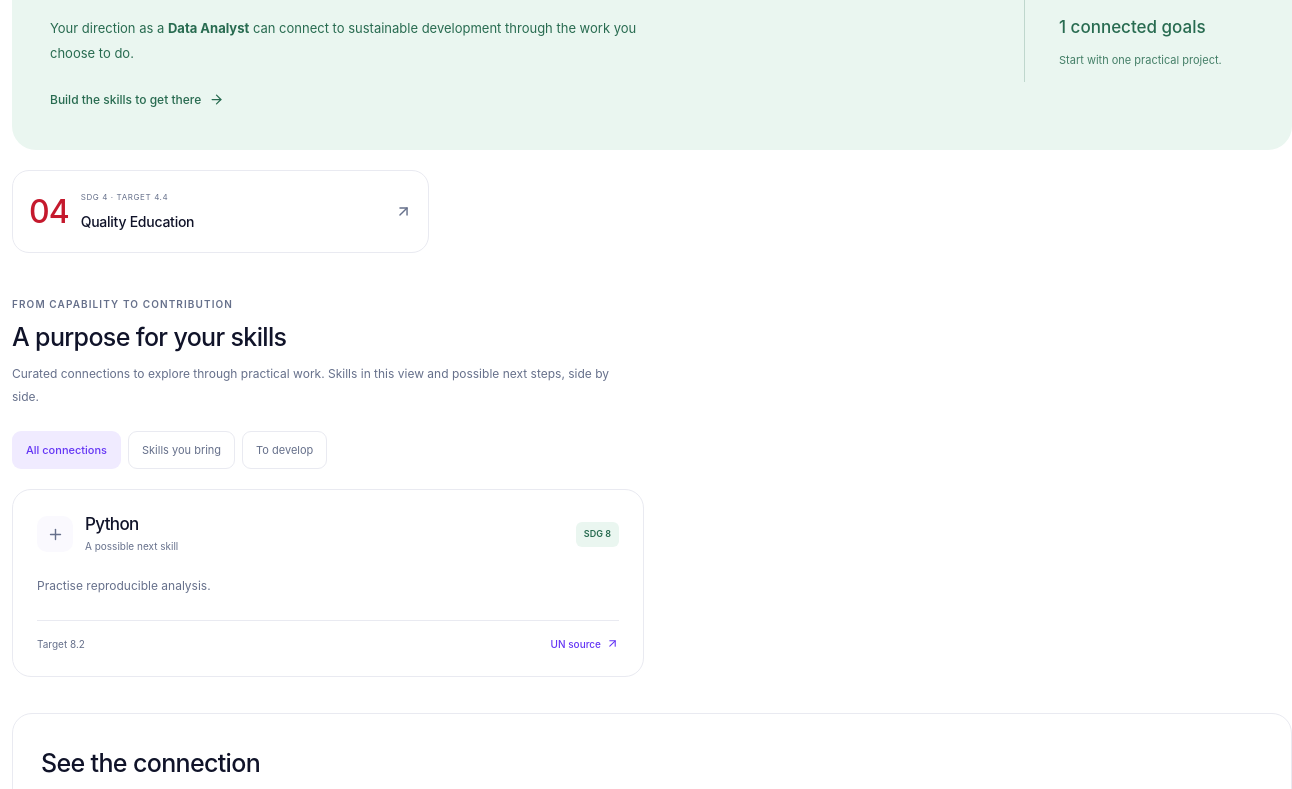
Scenario: switches between confirmed and potential skills with official citations
(page scrolled)
Click the button "Skills you bring".
click(182, 450)  # box [128,431,235,469]
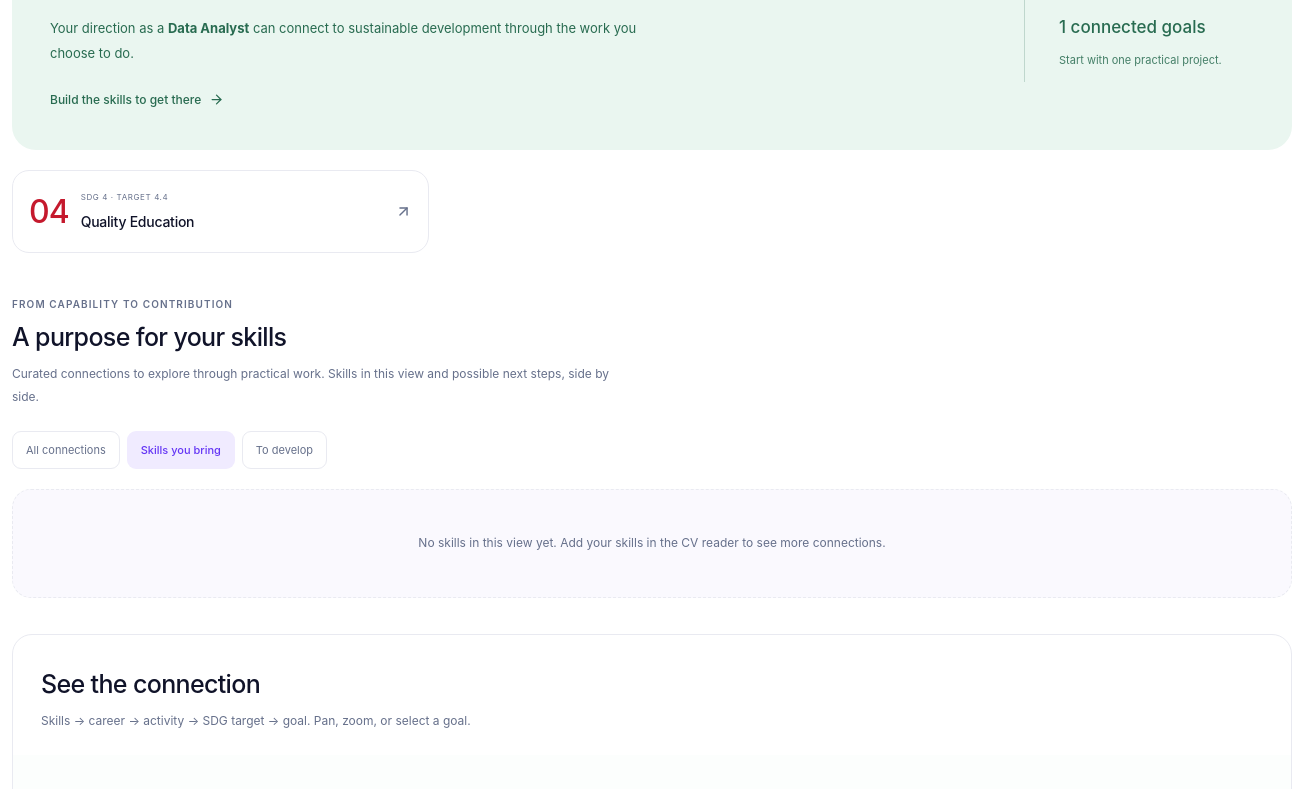
Expected: the heading "Python" is gone
Click the button "To develop".
click(284, 450)  # box [242,431,327,469]
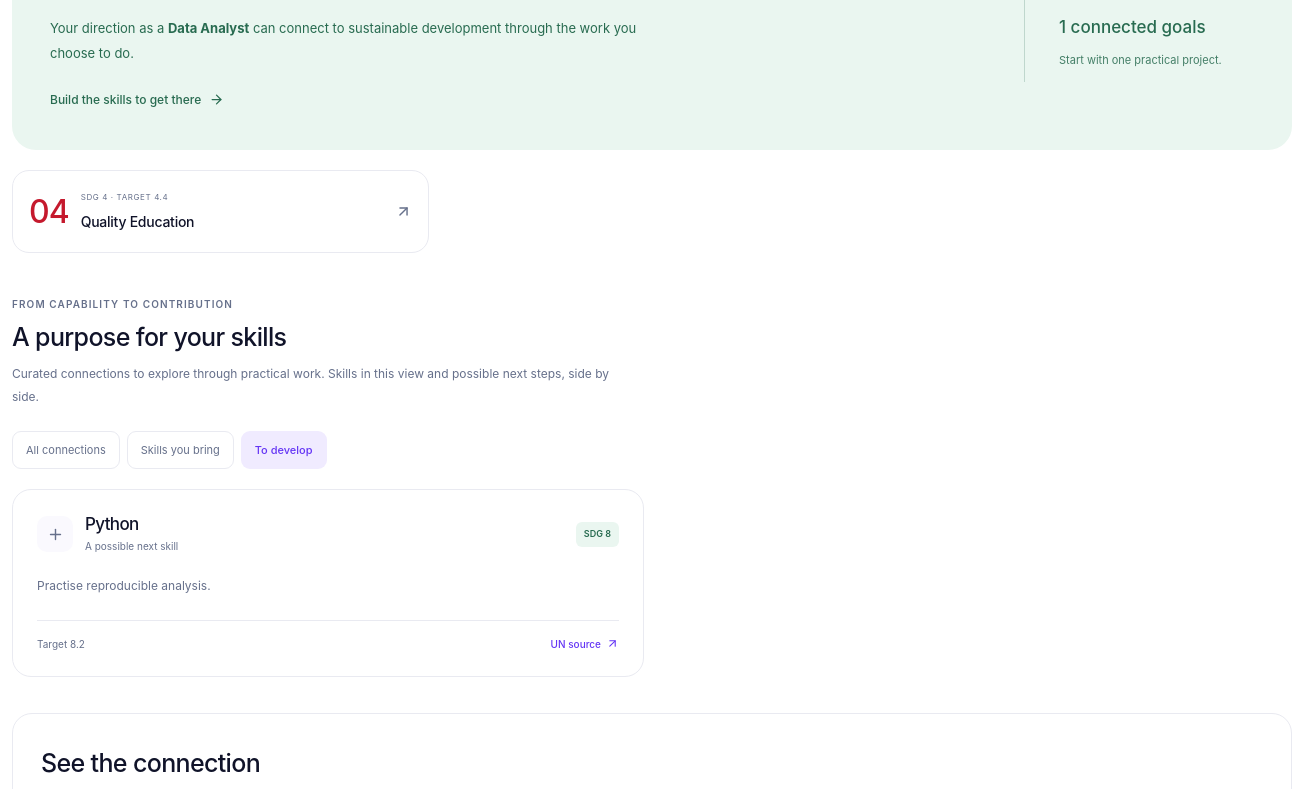
Expected: the heading "Python" is shown, [85,514,139,534]
